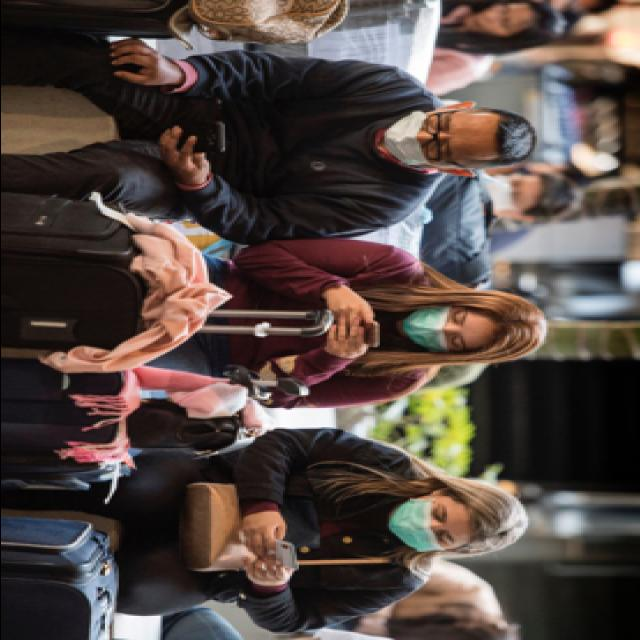with_mask: (379, 109, 457, 170), (388, 496, 458, 552), (398, 304, 473, 352), (488, 171, 530, 213)
without_mask: (464, 3, 520, 35)
